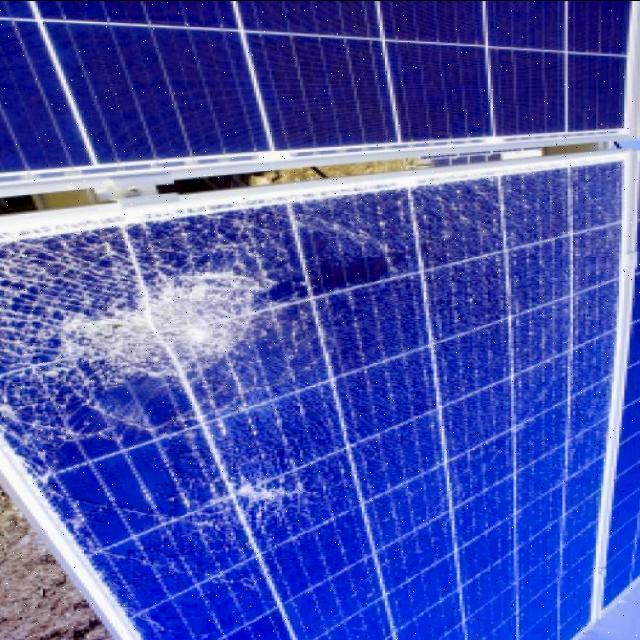Anomaly Solar Panel: (0, 160, 625, 640)
Structural Damage: (8, 235, 281, 426), (200, 445, 332, 557)
